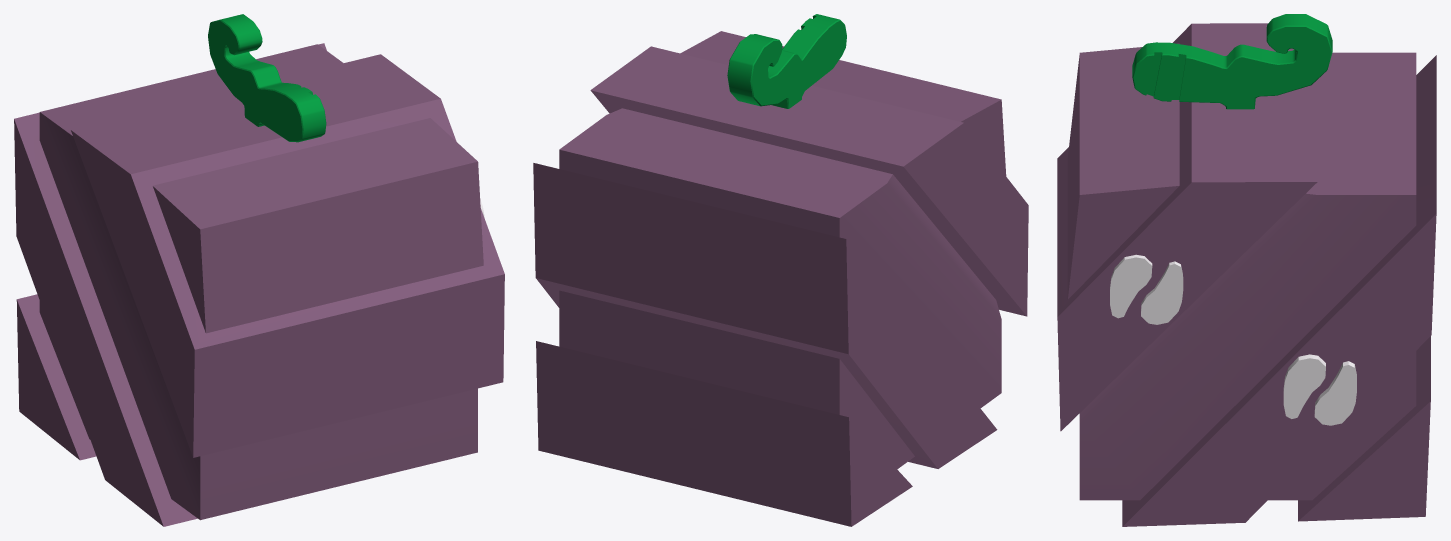
Rendered from TestFruit.fbx.
3 views of the same model, side by side, from view 1: azimuth 30°, elevation 25°; view 2: azimuth 150°, elevation 25°; view 3: azimuth 270°, elevation 25° (orthographic). The views are drawn at different scales.
Visible parts, largest first — view 1: Куб, Куб.005; view 2: Куб, Куб.005; view 3: Куб, Куб.005, Куб.003, Куб.004, Куб.002, Куб.001.
Boxes of the visible parts, bbox=[...] form: Куб: bbox=[14, 43, 504, 526]; Куб.005: bbox=[208, 14, 326, 142]; Куб: bbox=[533, 31, 1028, 526]; Куб.005: bbox=[727, 14, 846, 108]; Куб: bbox=[1057, 23, 1436, 526]; Куб.005: bbox=[1132, 14, 1332, 109]; Куб.003: bbox=[1283, 354, 1325, 418]; Куб.004: bbox=[1314, 361, 1356, 425]; Куб.002: bbox=[1141, 261, 1183, 324]; Куб.001: bbox=[1110, 254, 1152, 318].
Size of the model in its own units: 229 by 281 by 225.
